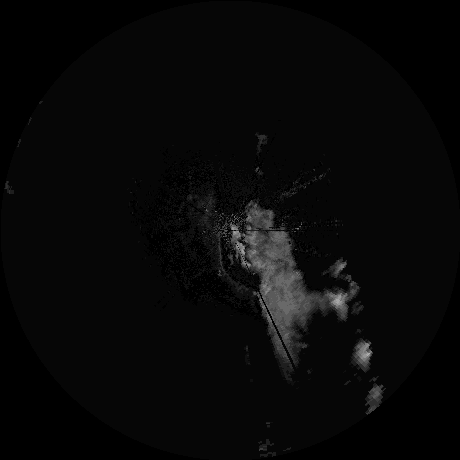frontgust: (215, 230, 226, 279)
